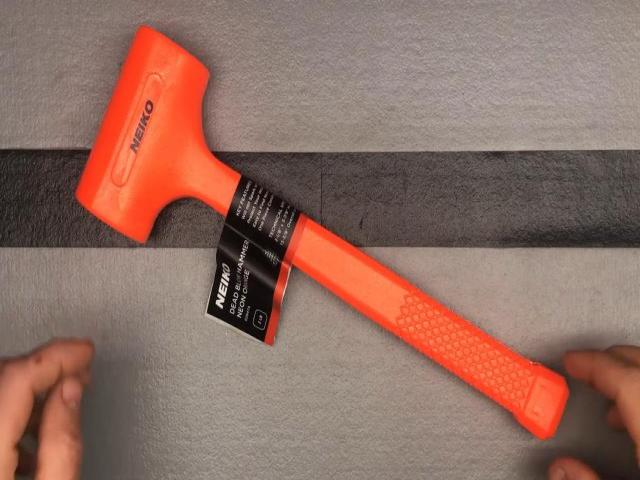hammer: (73, 27, 570, 437)
